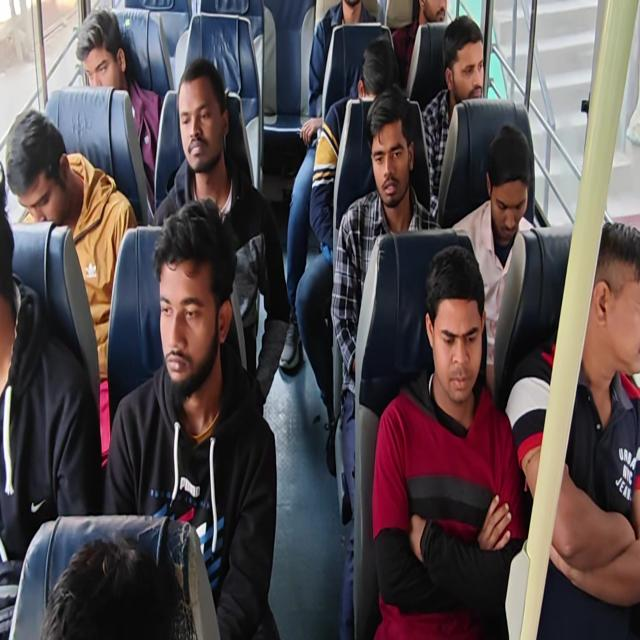person: (156, 194, 238, 396), (50, 534, 185, 640), (427, 245, 492, 414), (588, 212, 640, 396), (168, 49, 238, 182), (3, 106, 73, 226), (484, 125, 538, 257), (365, 100, 415, 217), (76, 5, 129, 98), (440, 17, 490, 112), (0, 187, 38, 301), (354, 33, 401, 104), (419, 1, 460, 24), (340, 0, 377, 20)
